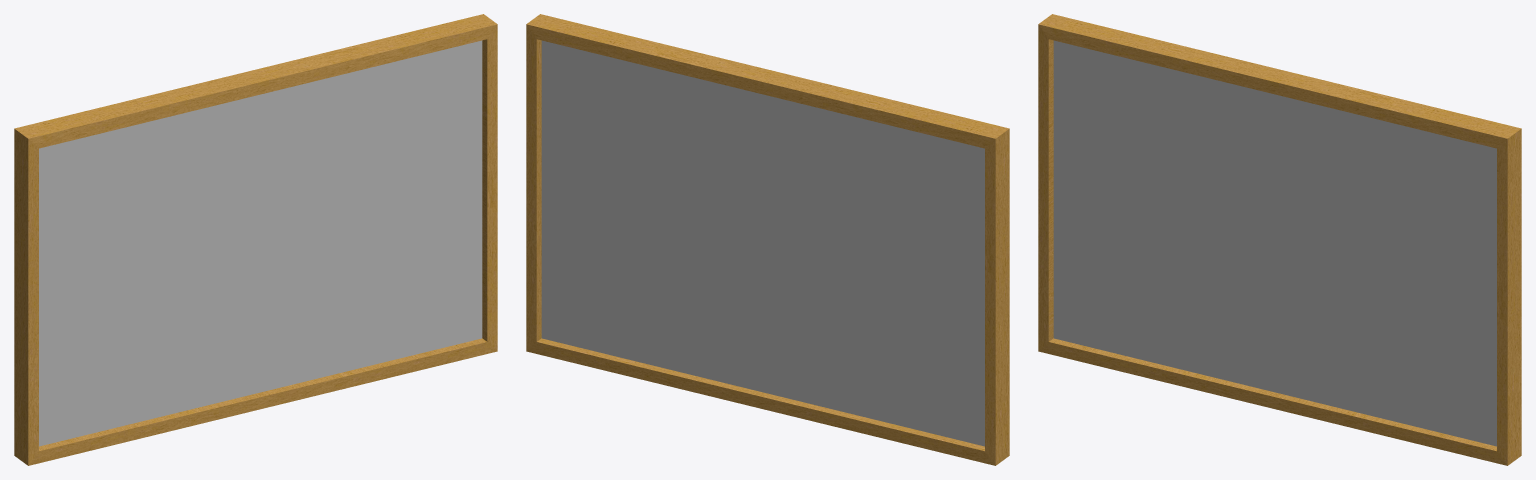
The model's file is CorkboardWoodFrame.fbx.
The picture shows the model from 3 angles, left to right: view 1: azimuth 30°, elevation 25°; view 2: azimuth 150°, elevation 25°; view 3: azimuth 330°, elevation 25°; orthographic projection.
Parts seen in each view (by area): view 1: Cube.001; view 2: Cube.001; view 3: Cube.001.
Part boxes in pixels (x1,y1,x2,y2): Cube.001: (14, 14, 497, 465); Cube.001: (526, 14, 1009, 465); Cube.001: (1038, 14, 1521, 465).
Size of the model in its own units: 34414 by 22918 by 1827.
